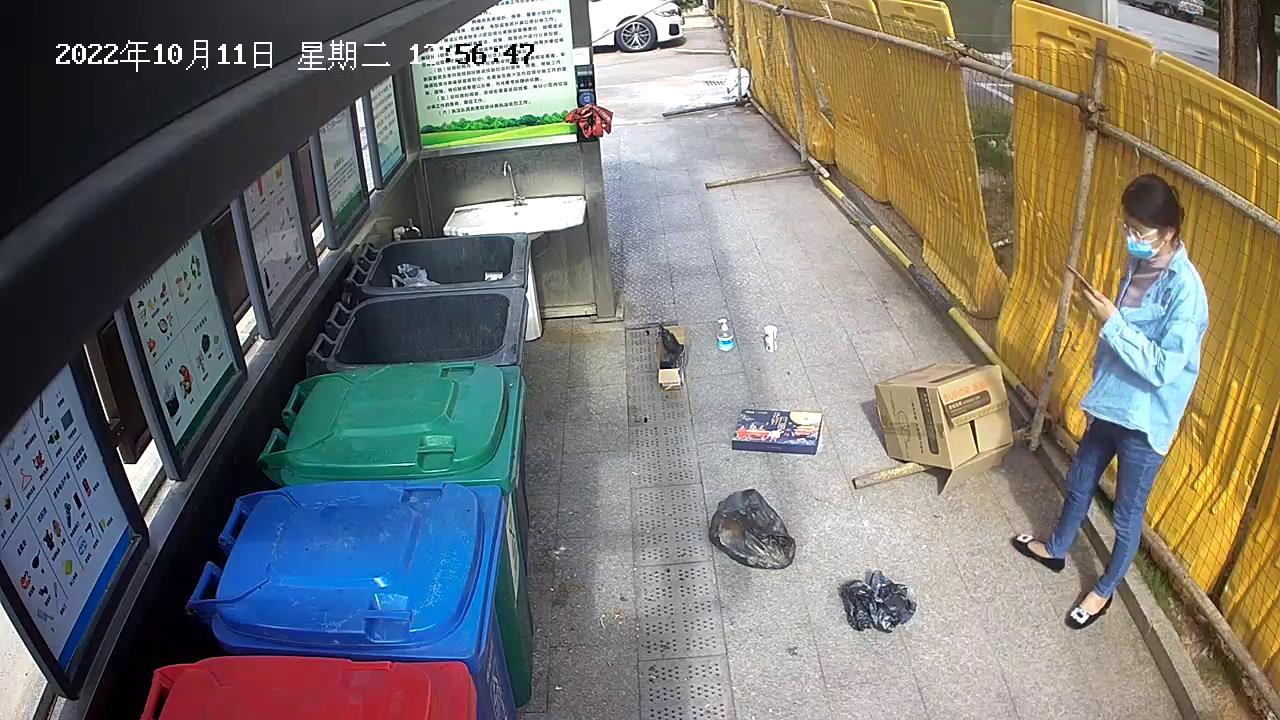garbage-bag: (703, 483, 802, 575), (836, 567, 922, 637)
lvzhipin: (758, 321, 782, 358)
suliaozhipin: (710, 313, 739, 354)
worker: (1007, 167, 1215, 630)
zhizhipin: (869, 357, 1019, 499), (724, 403, 827, 459)
